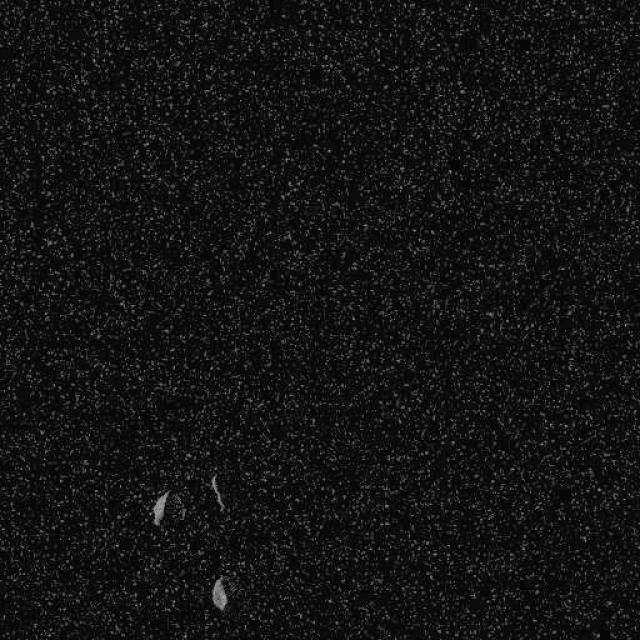D2: (151, 489, 170, 526), (210, 575, 228, 611), (209, 471, 225, 511)
